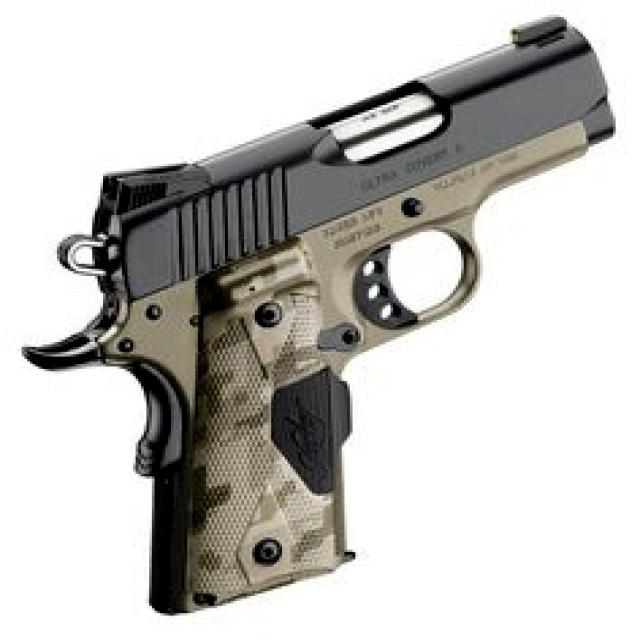semi automatic: (20, 12, 630, 625)
